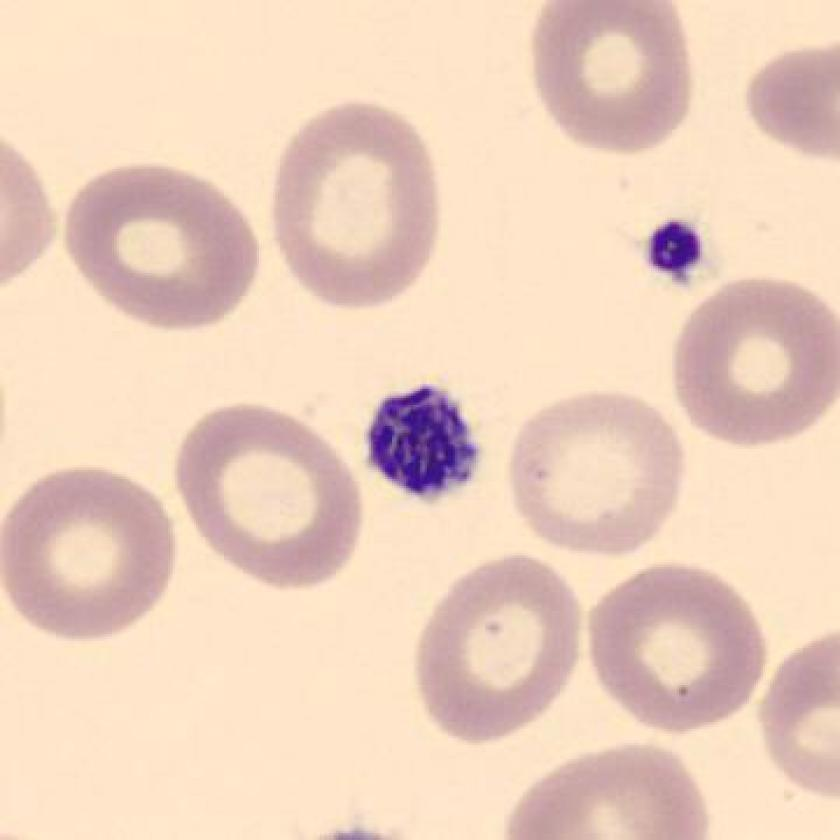platelets: (360, 381, 496, 513), (638, 212, 715, 281)
